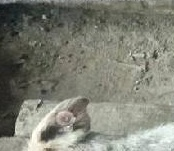text: (47, 102, 85, 135)
